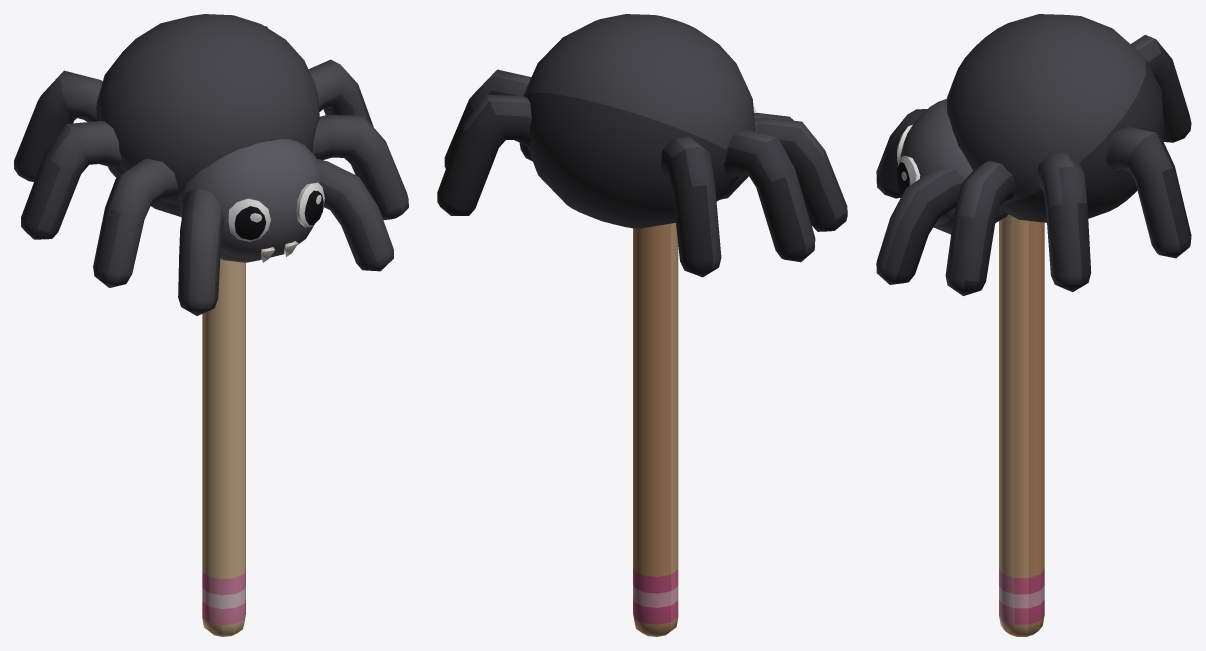
The model's file is Cosmetic_SpiderStick.glb.
3 renders of one model, left to right at view 1: azimuth 30°, elevation 25°; view 2: azimuth 150°, elevation 25°; view 3: azimuth 270°, elevation 25°, orthographic. The views are drawn at different scales.
Parts seen in each view (by area): view 1: Cosmetic_SpiderStick; view 2: Cosmetic_SpiderStick; view 3: Cosmetic_SpiderStick.
Part boxes in pixels (x1,y1,x2,y2): Cosmetic_SpiderStick: (14,14,408,636); Cosmetic_SpiderStick: (437,14,847,636); Cosmetic_SpiderStick: (876,14,1191,636).
Size of the model in its own units: 0.6173 by 1 by 0.4698.
